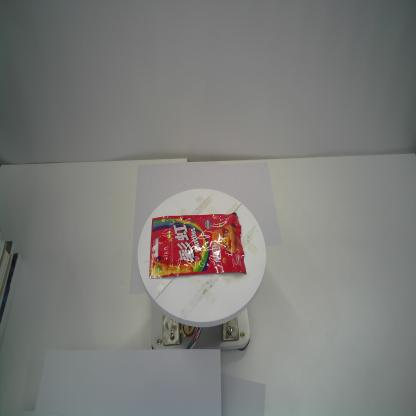Candy: (148, 212, 246, 278)
